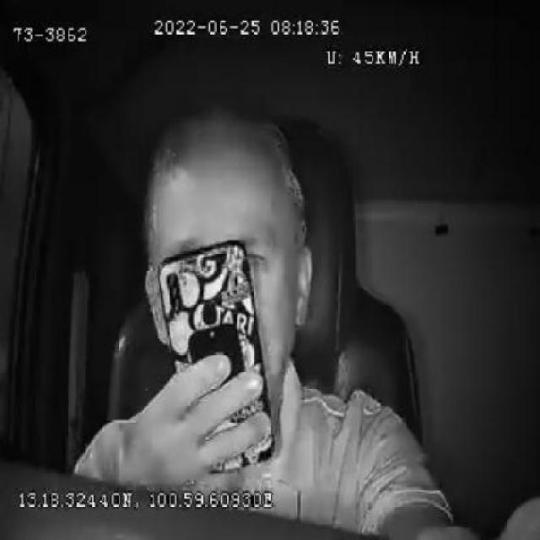phone: (160, 238, 274, 471)
